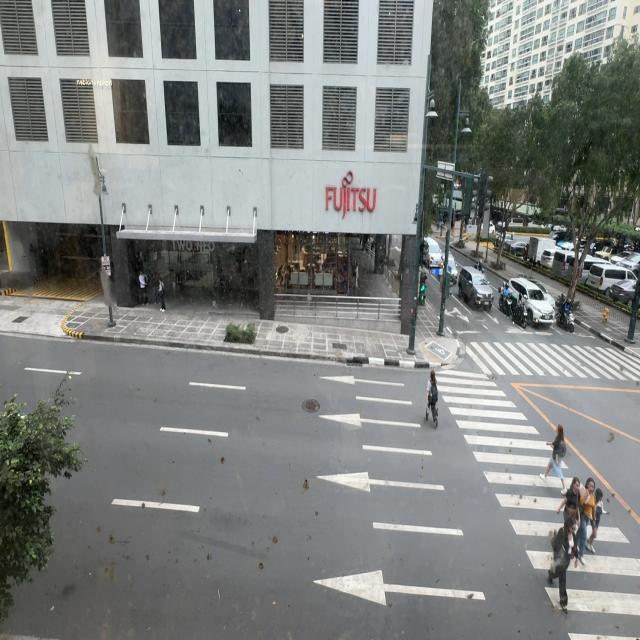crossing: (548, 524, 574, 607), (550, 523, 577, 602), (543, 414, 565, 508), (573, 478, 597, 562), (538, 428, 565, 492), (588, 488, 610, 553), (590, 486, 607, 558)
jaywalking: (427, 371, 440, 426), (427, 363, 437, 432)
